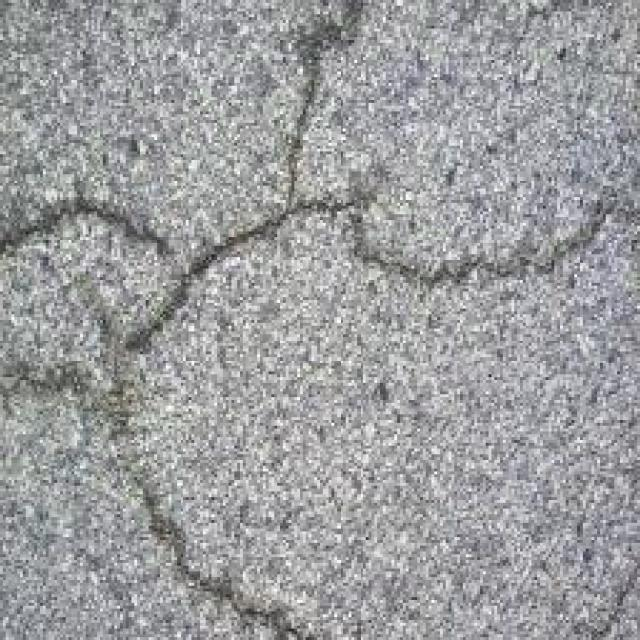crack: (14, 34, 640, 616)
